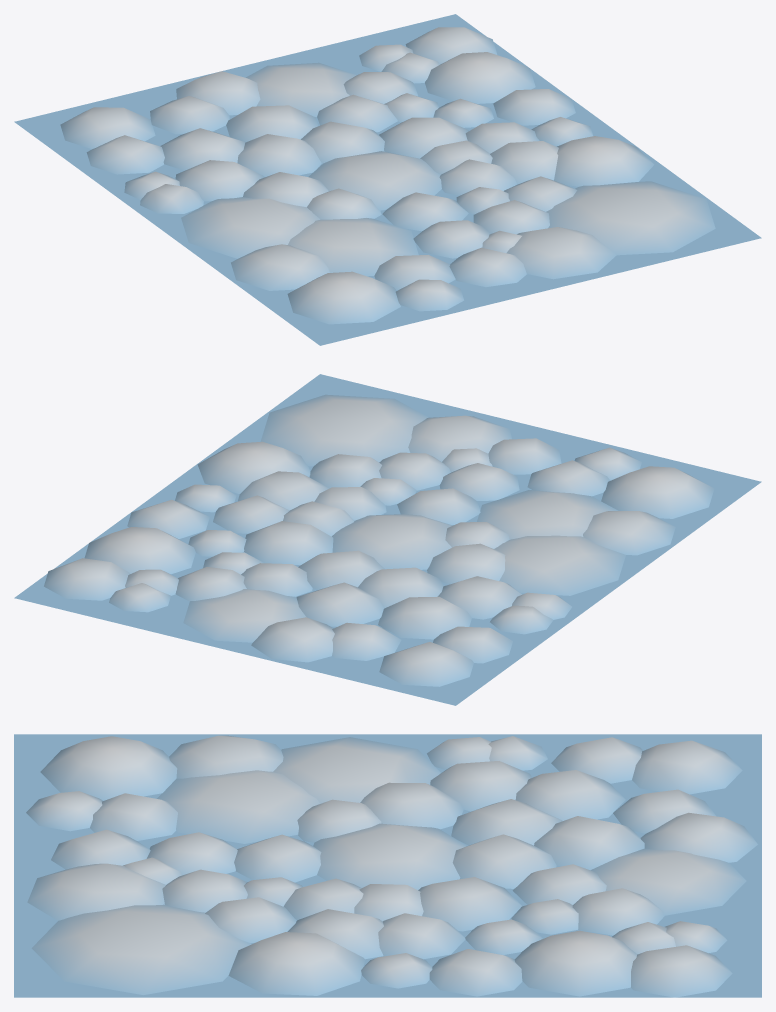
The model's file is deerlyupdate2023CloudFloor.fbx.
3 renders of one model, top to bottom at view 1: azimuth 30°, elevation 25°; view 2: azimuth 150°, elevation 25°; view 3: azimuth 270°, elevation 25°, orthographic. The views are drawn at different scales.
Parts seen in each view (by area): view 1: Plane.474; view 2: Plane.474; view 3: Plane.474.
Boxes of the visible parts, x1,y1,x2,y2 form: Plane.474: [14, 14, 761, 345]; Plane.474: [14, 374, 761, 705]; Plane.474: [14, 734, 761, 997].
Size of the model in its own units: 1003 by 42.32 by 1200.
